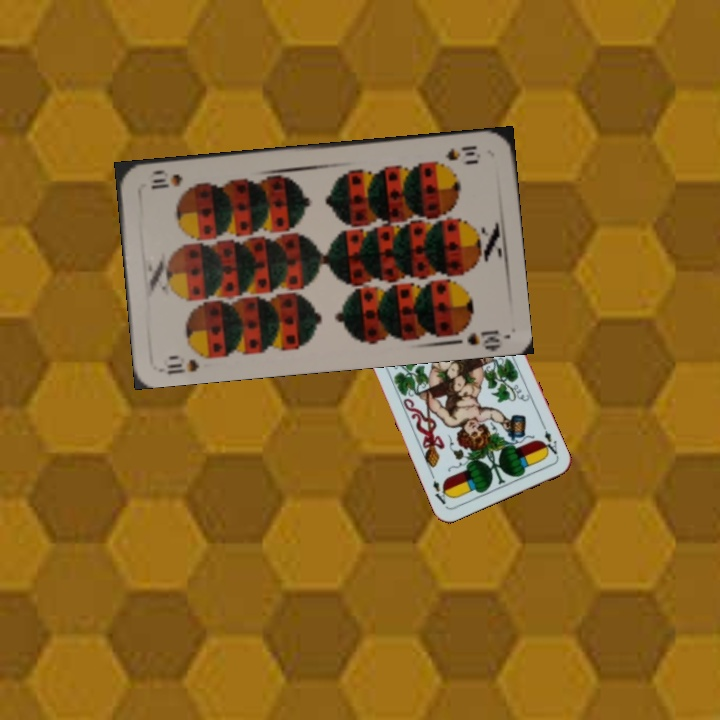EA: (538, 426, 561, 460)
S10: (163, 355, 202, 377), (442, 141, 479, 164)
